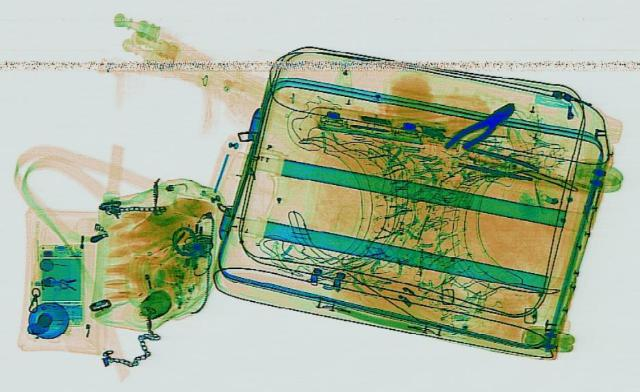Pliers: (436, 95, 526, 154)
